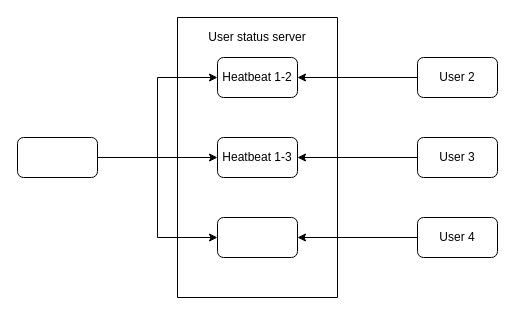
Some shapes in this 515 by 315 pixel diagram are drawn without their labels. The shapes that lost their labels are listed below. From the top down, each one's box as (x1, y1, x2, y2) in pixels, then its label:
(16, 136, 98, 178): User 1
(216, 216, 298, 258): Heatbeat 1-4
